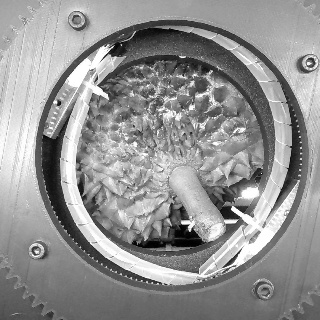base: (163, 161, 200, 193)
end: (207, 222, 225, 242)
